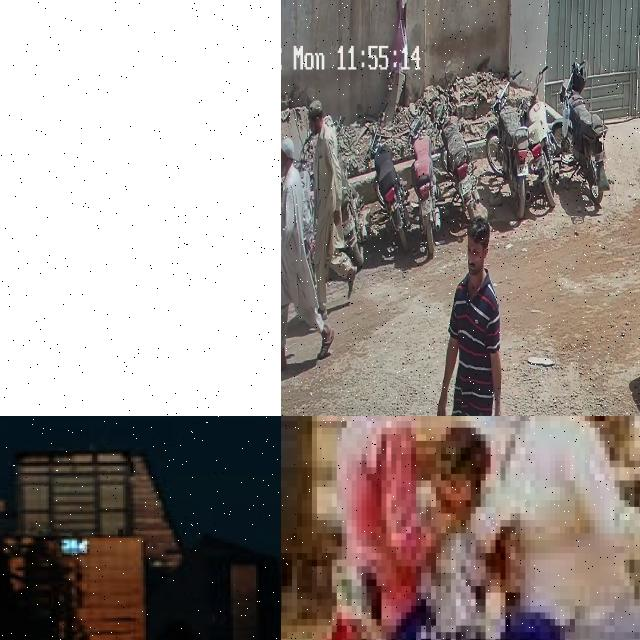bike: (302, 546, 640, 640), (182, 162, 281, 416), (552, 59, 609, 205), (435, 59, 480, 220), (486, 70, 530, 218), (369, 100, 411, 255), (518, 66, 560, 206), (408, 96, 441, 253), (337, 117, 367, 267)
